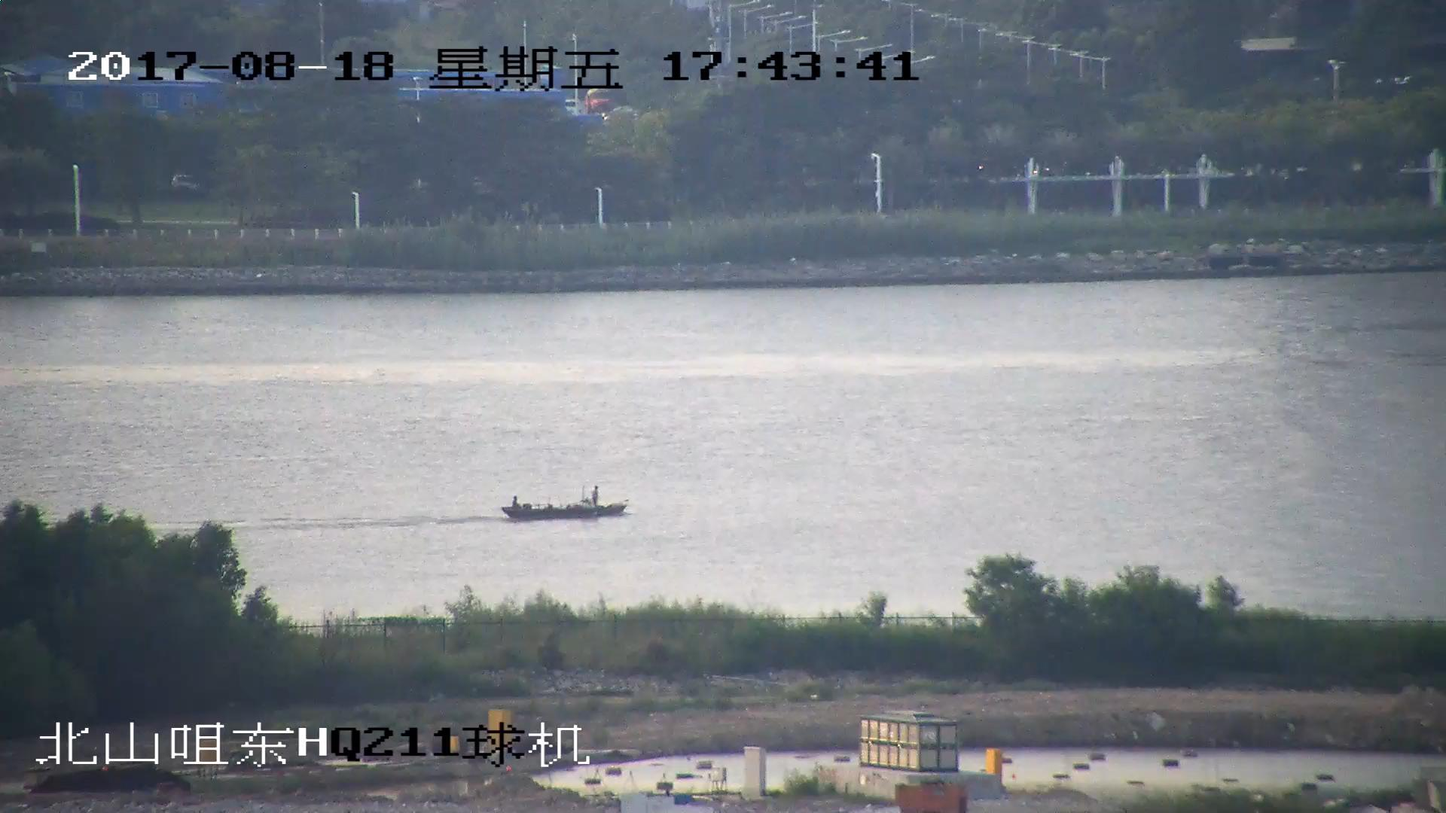fishing boat: (502, 488, 627, 518)
